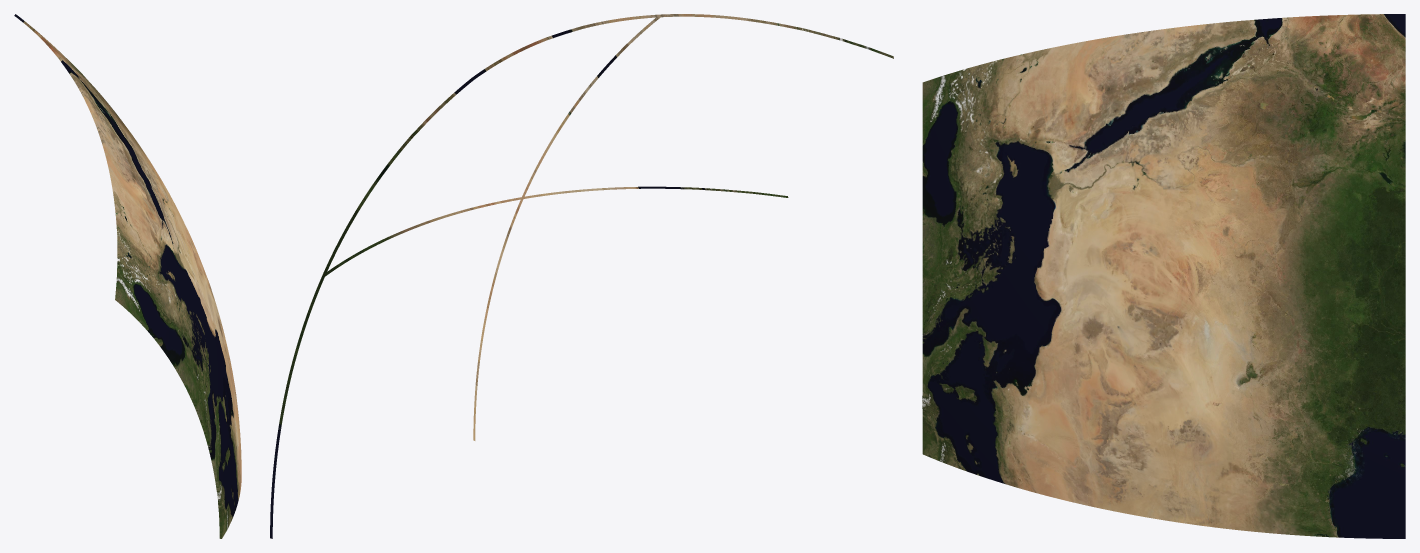
3 renders of one model, left to right at view 1: azimuth 30°, elevation 25°; view 2: azimuth 150°, elevation 25°; view 3: azimuth 270°, elevation 25°, orthographic. The views are drawn at different scales.
Parts seen in each view (by area): view 1: DefaultName.009, DefaultName.012, DefaultName.006; view 2: DefaultName.006, DefaultName.003, DefaultName.009, DefaultName.012; view 3: DefaultName.006, DefaultName.003, DefaultName.009, DefaultName.012.
Boxes of the visible parts, <box> form: DefaultName.009: <box>98,130,208,402</box>; DefaultName.012: <box>192,266,241,538</box>; DefaultName.006: <box>14,14,200,262</box>; DefaultName.006: <box>322,14,660,276</box>; DefaultName.003: <box>270,197,522,538</box>; DefaultName.009: <box>522,14,893,198</box>; DefaultName.012: <box>473,186,788,440</box>; DefaultName.006: <box>1144,14,1405,278</box>; DefaultName.003: <box>1144,276,1405,538</box>; DefaultName.009: <box>922,32,1144,276</box>; DefaultName.012: <box>922,270,1144,516</box>.
Bounding box in the file's own units: 31961 × 45100 × 44897.
Materials: 4 (4 with a texture image).
